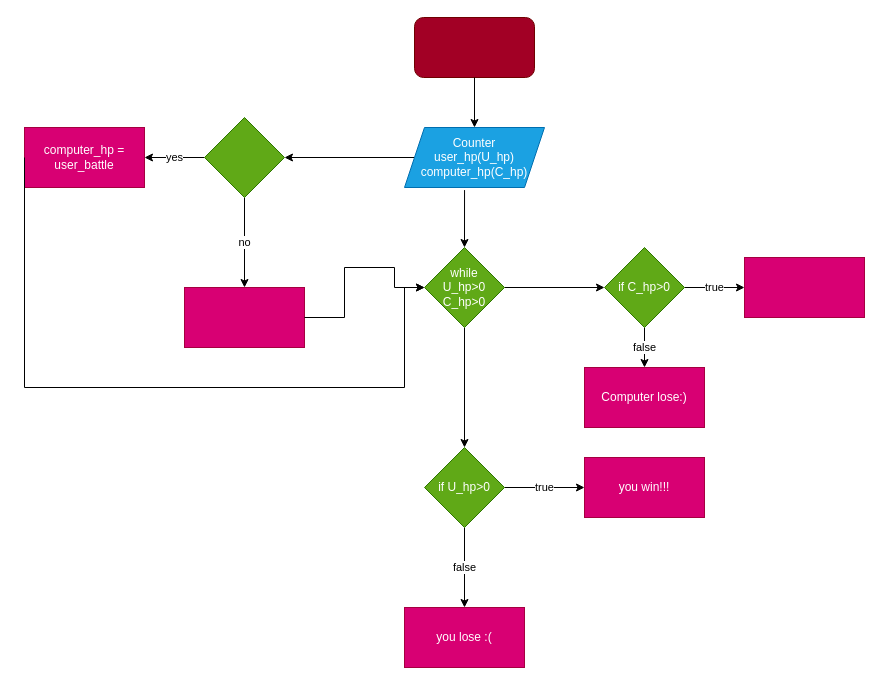
The diagram is 882 pixels wide and 685 high, and some of its shapes have lost their labels. The centre of each missing label's shape, as x and y in pixels:
"Computer wins!!!" goes at point (804, 287).
"if counter even" goes at point (244, 157).
"start" goes at point (474, 47).
"user_hp = battle_computer" goes at point (244, 317).
